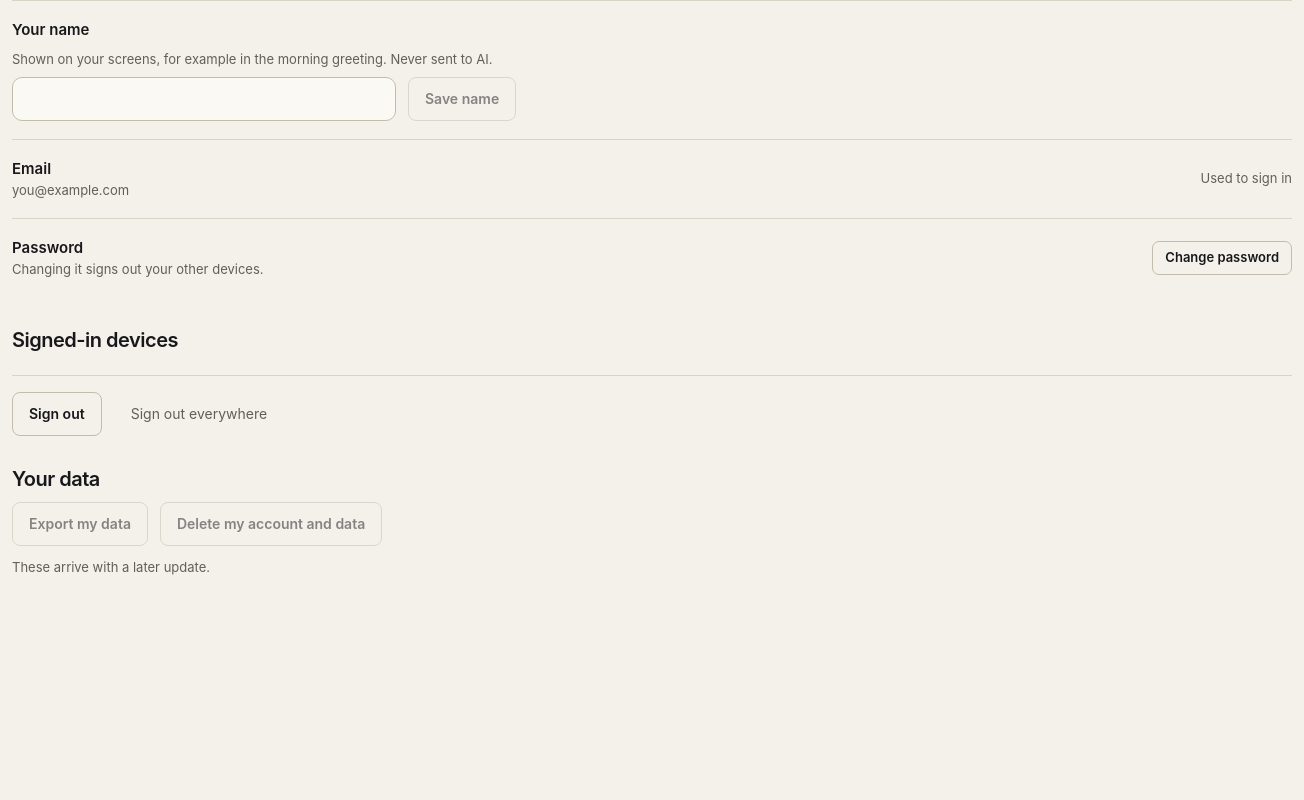
Test: account settings with the API › shows the newer name when someone else changed it first
In the field labelled "Your name": (204, 99) [12,77,396,121], type "Asha"
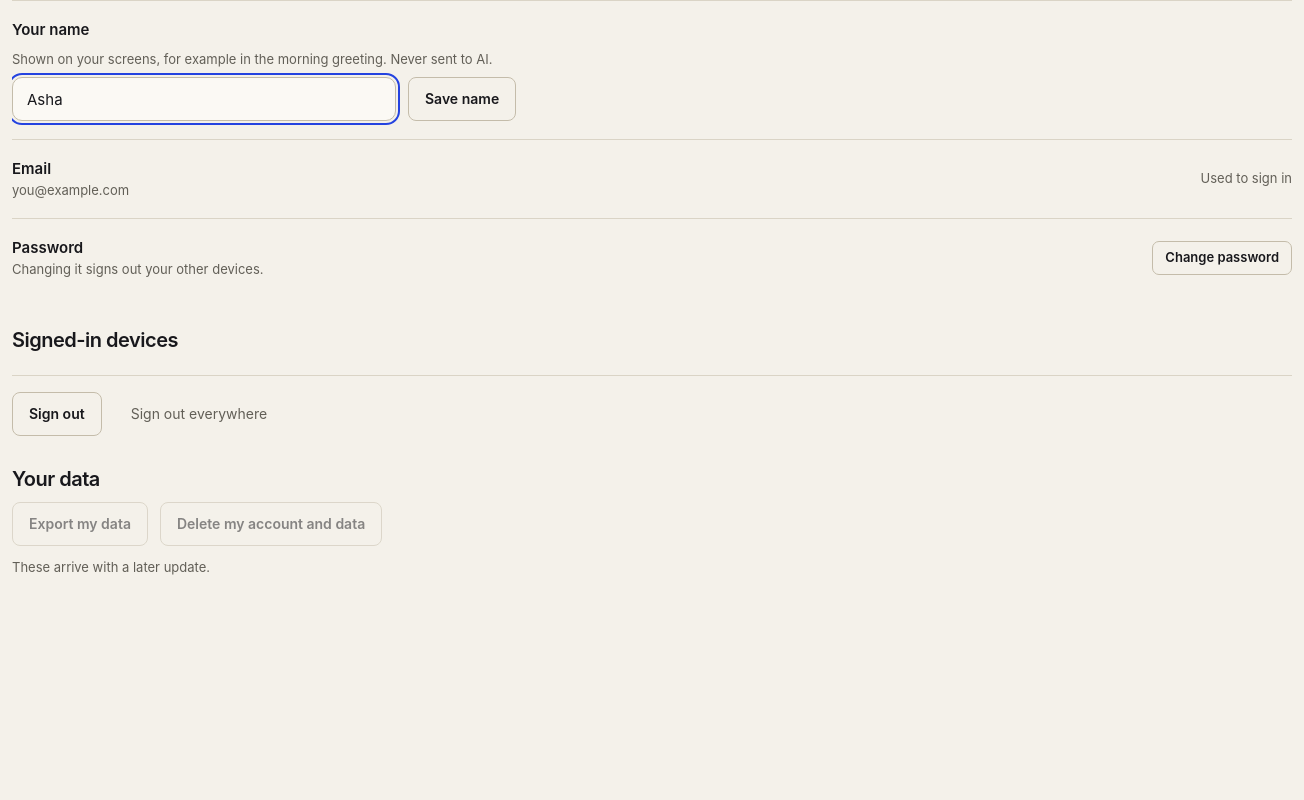
Click the button "Save name": click(462, 99) [408,77,516,121]
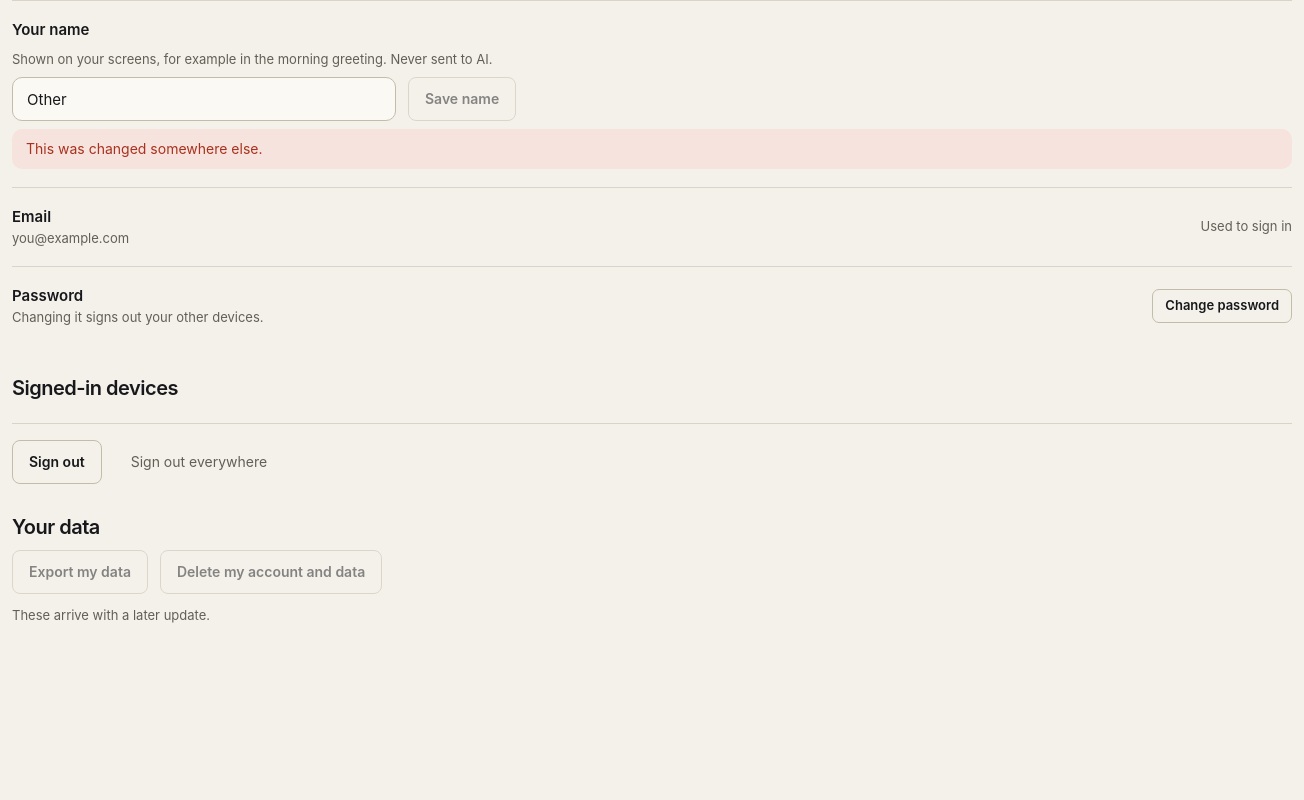
Check: the text "This was changed somewhere else." is shown, box [12,129,1292,169]
Check: the field labelled "Your name" holds "Other", box [12,77,396,121]
